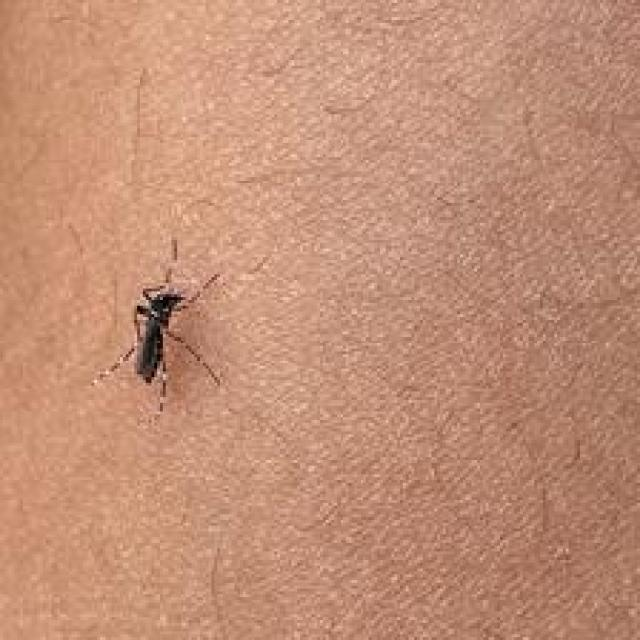Aedes albopictus: (90, 235, 227, 414)
